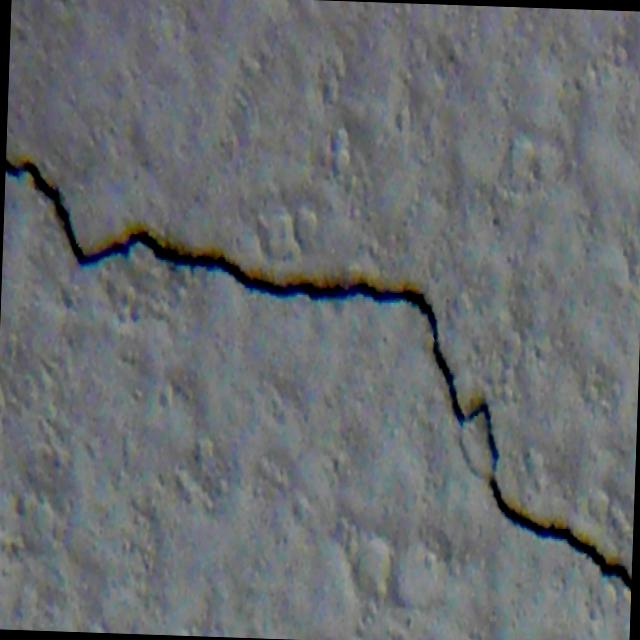crack: (0, 156, 450, 380), (436, 362, 638, 590)
